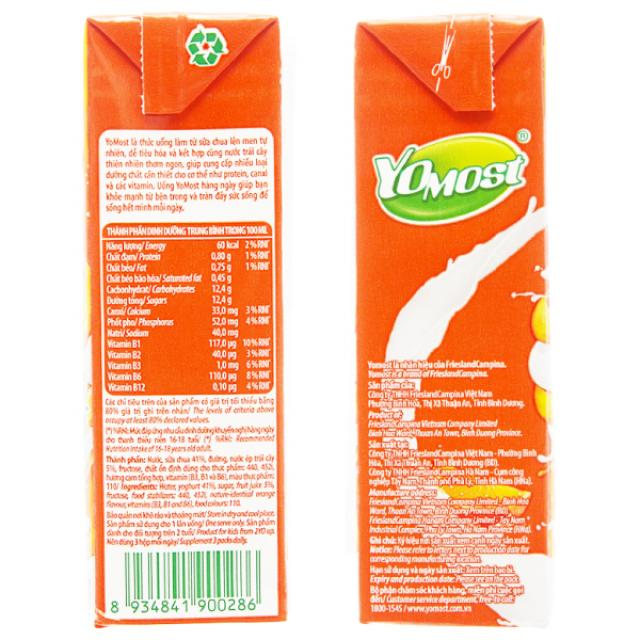non_white_jug: (71, 8, 317, 623), (342, 2, 557, 640)
